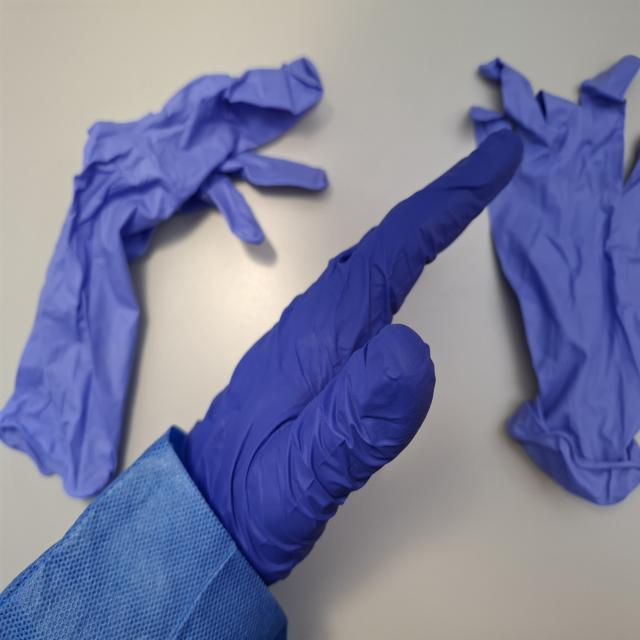glove_on: (170, 123, 527, 597)
